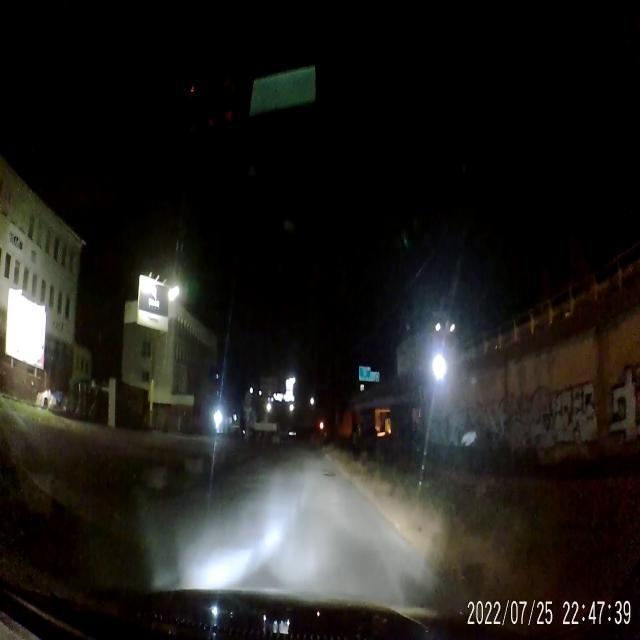Manhole: (324, 471, 336, 479)
